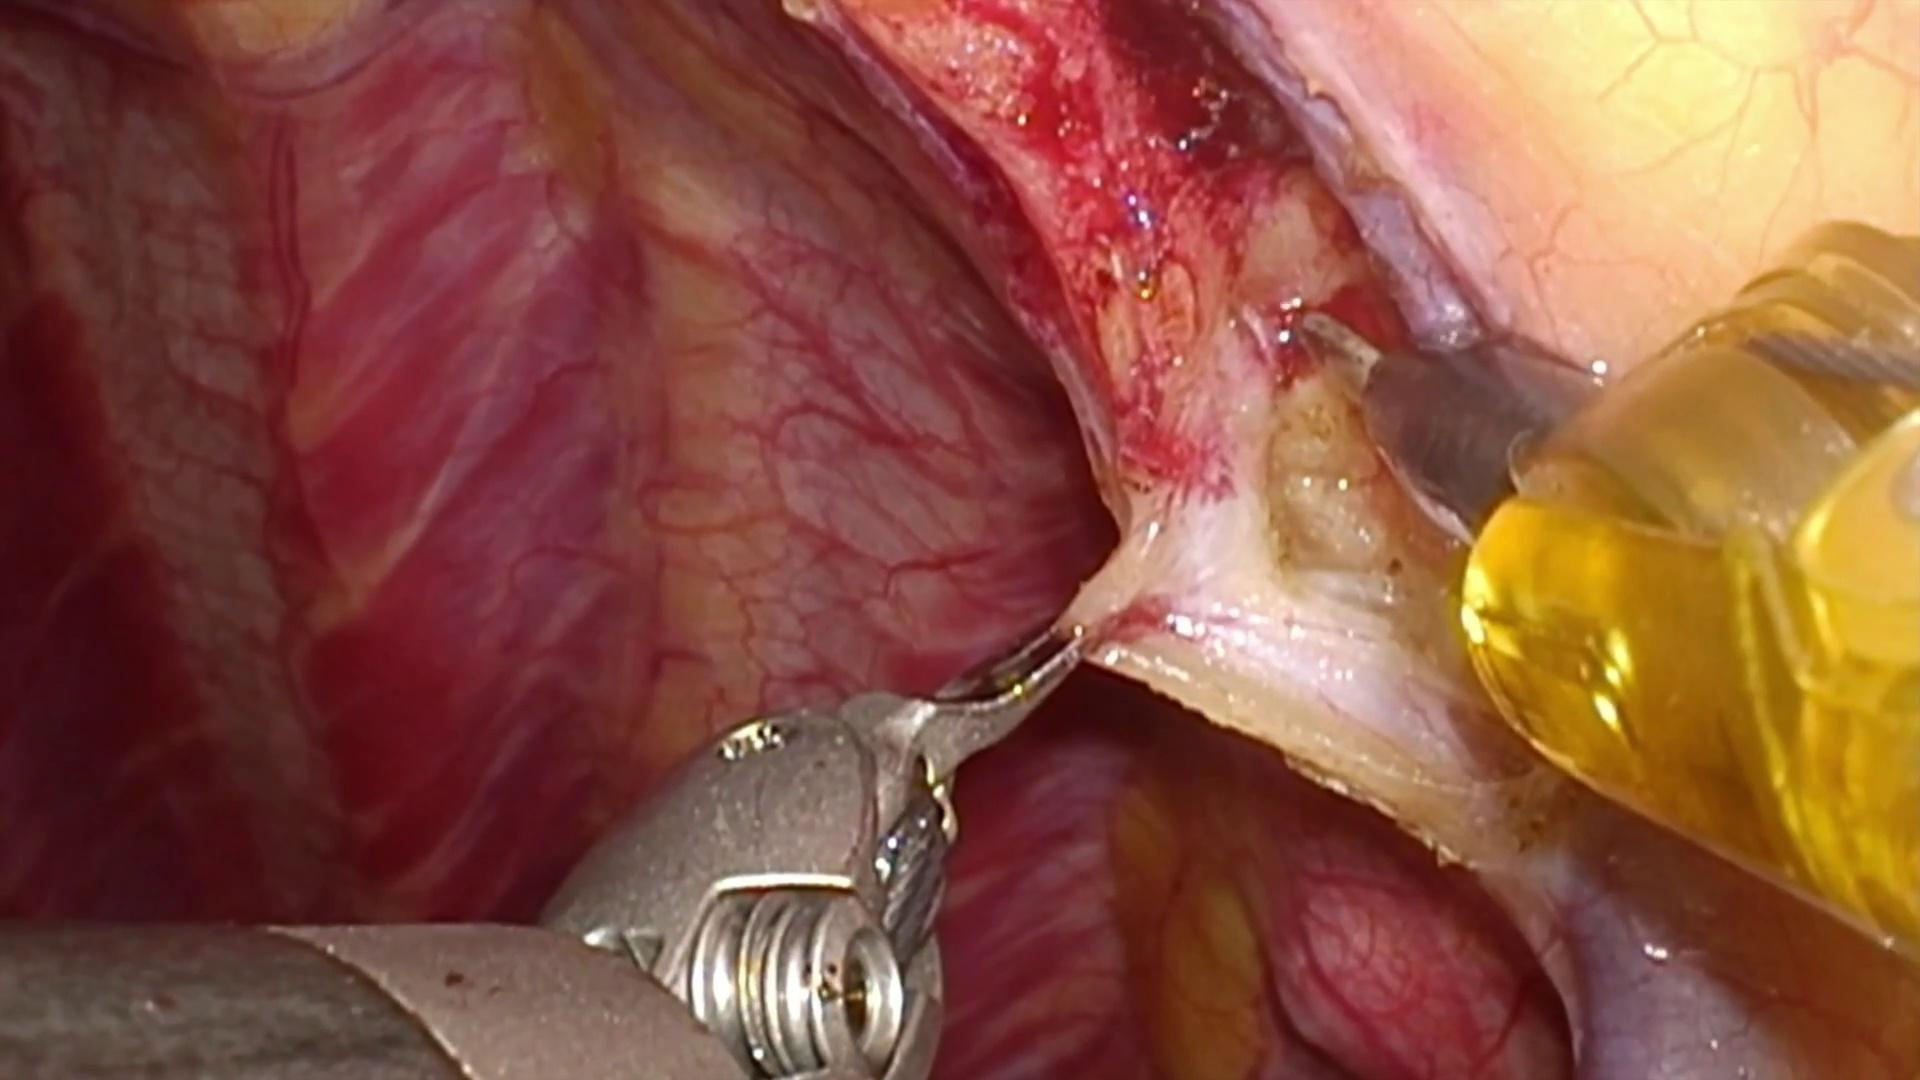Cautery_Spatula: (1278, 305, 1613, 553)
Debakey: (829, 575, 1097, 832)
